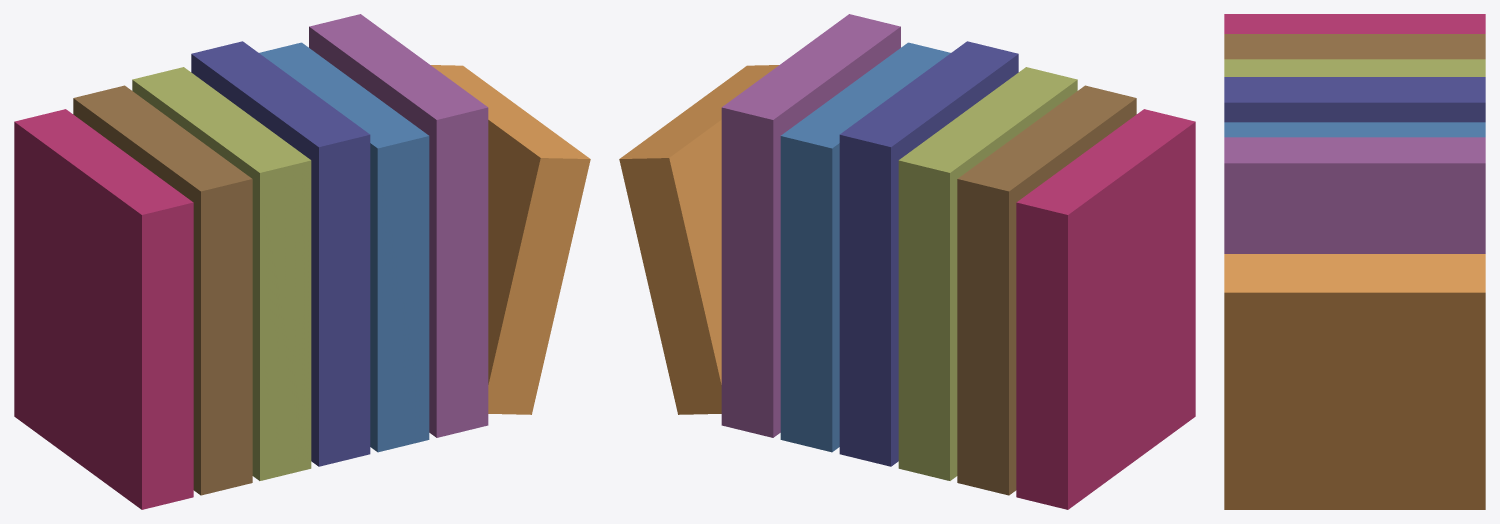
The model's file is shelf_books.glb.
3 renders of one model, left to right at view 1: azimuth 30°, elevation 25°; view 2: azimuth 150°, elevation 25°; view 3: azimuth 270°, elevation 25°, orthographic. The views are drawn at different scales.
Visible parts, largest first — view 1: shelf_books; view 2: shelf_books; view 3: shelf_books.
Boxes of the visible parts, x1,y1,x2,y2 form: shelf_books: (14,14,590,509); shelf_books: (619,14,1195,509); shelf_books: (1224,14,1485,509).
Size of the model in its own units: 0.3044 by 0.2071 by 0.15.
